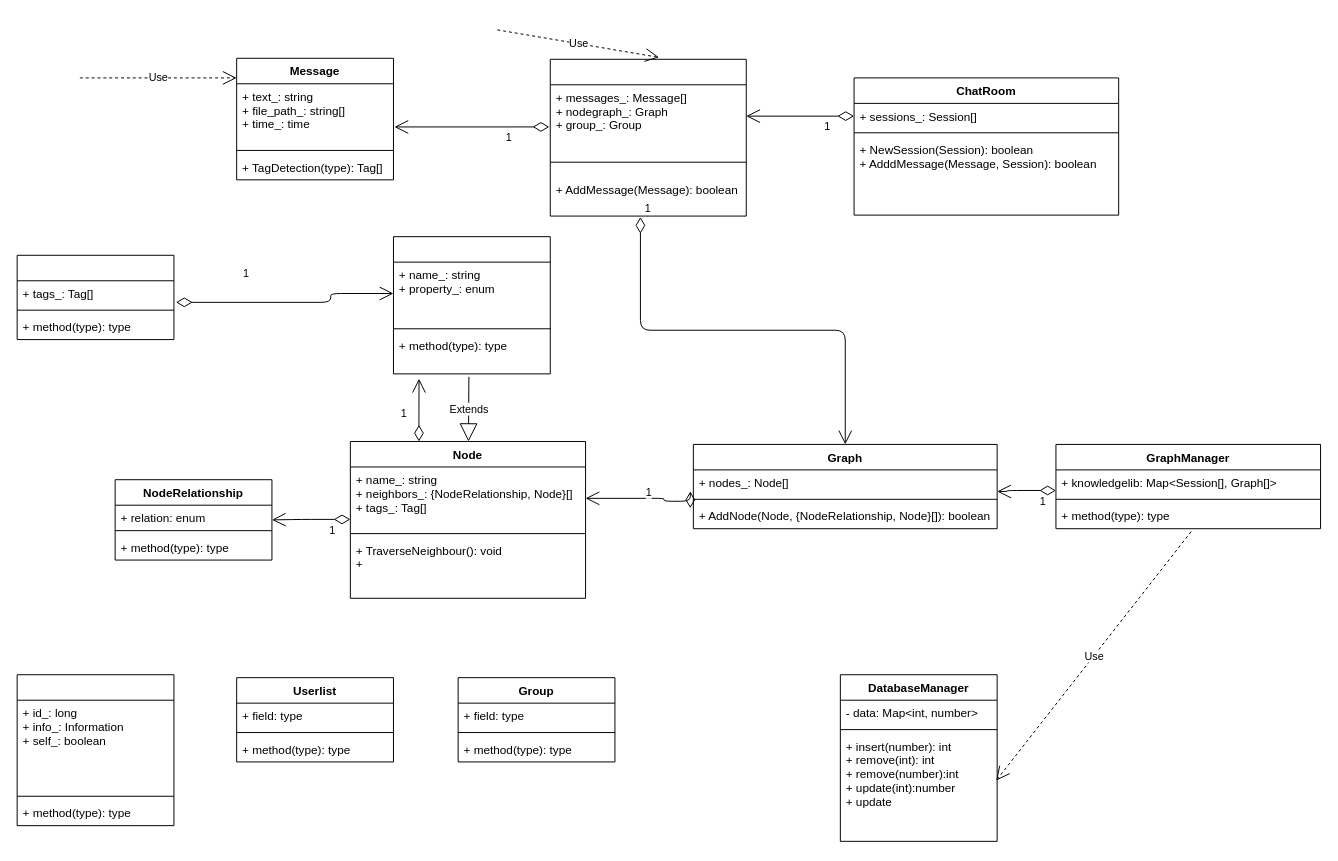
The diagram is 1338 pixels wide and 861 high, and some of its shapes have lost their labels. Each missing label, with the box of its shape:
Session: (549, 58, 746, 216)
Tag: (392, 236, 550, 374)
TagManager: (16, 254, 174, 340)
User: (16, 674, 174, 826)
